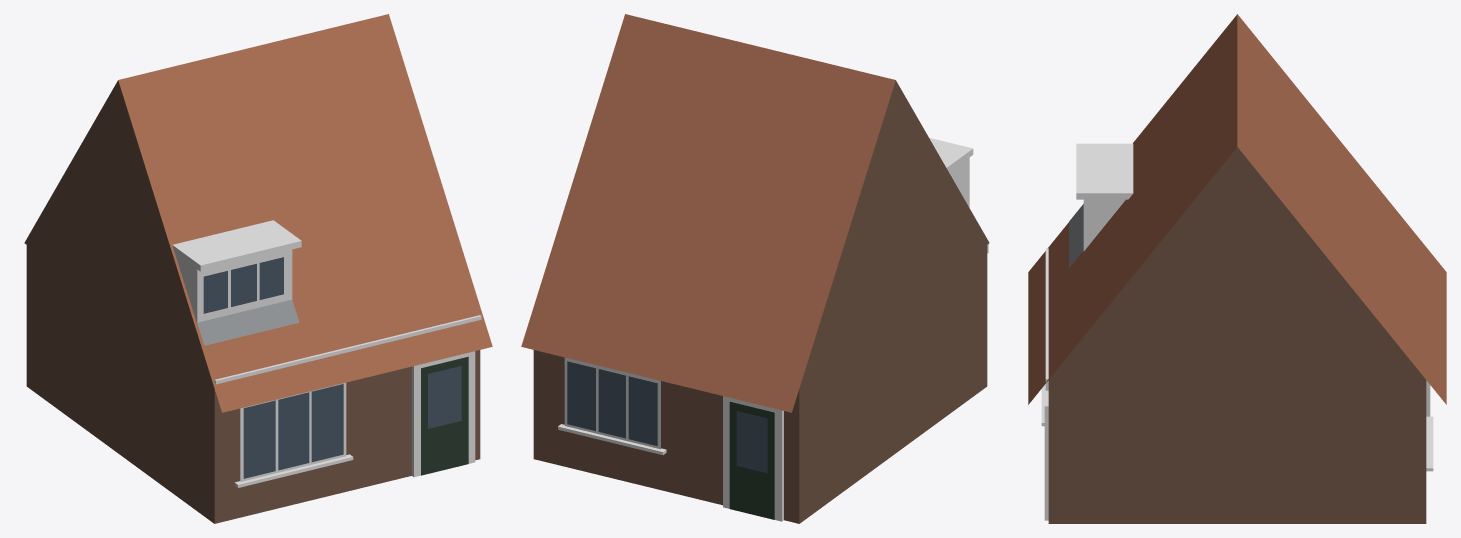
File: nd-to-cottage__green-door__2__gable__long__solid__f0d0__mirror.glb
3 views of the same model, side by side, from view 1: azimuth 30°, elevation 25°; view 2: azimuth 150°, elevation 25°; view 3: azimuth 270°, elevation 25° (orthographic).
Parts seen in each view (by area): view 1: nd-to-cottage__green-door__2__gable__long__solid__f0d0__mirr; view 2: nd-to-cottage__green-door__2__gable__long__solid__f0d0__mirr; view 3: nd-to-cottage__green-door__2__gable__long__solid__f0d0__mirr.
Boxes of the visible parts, bbox=[...] form: nd-to-cottage__green-door__2__gable__long__solid__f0d0__mirr: bbox=[24, 14, 492, 523]; nd-to-cottage__green-door__2__gable__long__solid__f0d0__mirr: bbox=[521, 14, 989, 523]; nd-to-cottage__green-door__2__gable__long__solid__f0d0__mirr: bbox=[1028, 14, 1446, 523].
Bounding box in the file's own units: 5.4 × 7.17 × 7.19.
